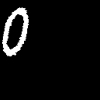chain: (2, 8, 27, 55)
